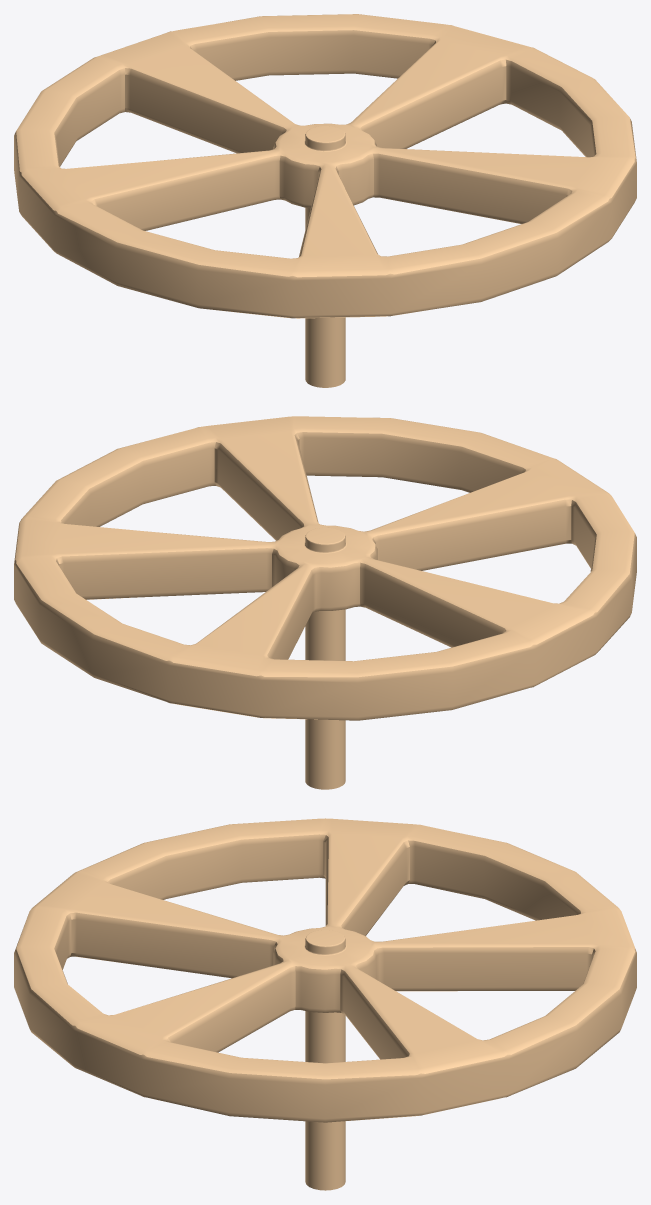
The model's file is Wheel.fbx.
3 renders of one model, top to bottom at view 1: azimuth 30°, elevation 25°; view 2: azimuth 150°, elevation 25°; view 3: azimuth 270°, elevation 25°, orthographic.
Parts seen in each view (by area): view 1: WHEEL; view 2: WHEEL; view 3: WHEEL.
Boxes of the visible parts, box(x1,y1,x2,y2) form: WHEEL: box(14, 14, 636, 387); WHEEL: box(14, 416, 636, 789); WHEEL: box(14, 818, 636, 1190).
Size of the model in its own units: 0.6 by 0.2595 by 0.6.
